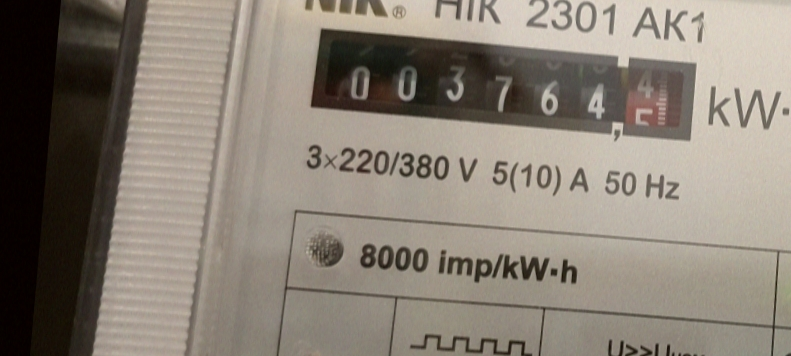0: (392, 62, 418, 103), (344, 62, 371, 101)
3: (440, 62, 466, 103)
4: (584, 80, 607, 121), (632, 66, 656, 99)
5: (630, 104, 653, 128)
6: (536, 76, 560, 117)
7: (488, 70, 514, 114)
screen: (293, 11, 712, 156)
